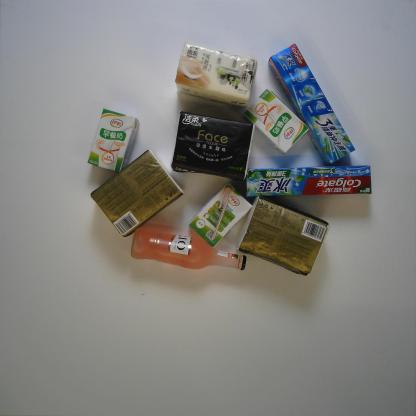Alcohol: (130, 226, 248, 272)
Milk: (242, 88, 310, 155), (188, 182, 254, 248), (87, 107, 139, 174)
Personal Hygiene: (267, 41, 357, 166), (245, 164, 372, 197)
Tissue: (89, 147, 186, 239), (236, 196, 330, 274), (170, 110, 258, 181), (176, 41, 258, 108)
